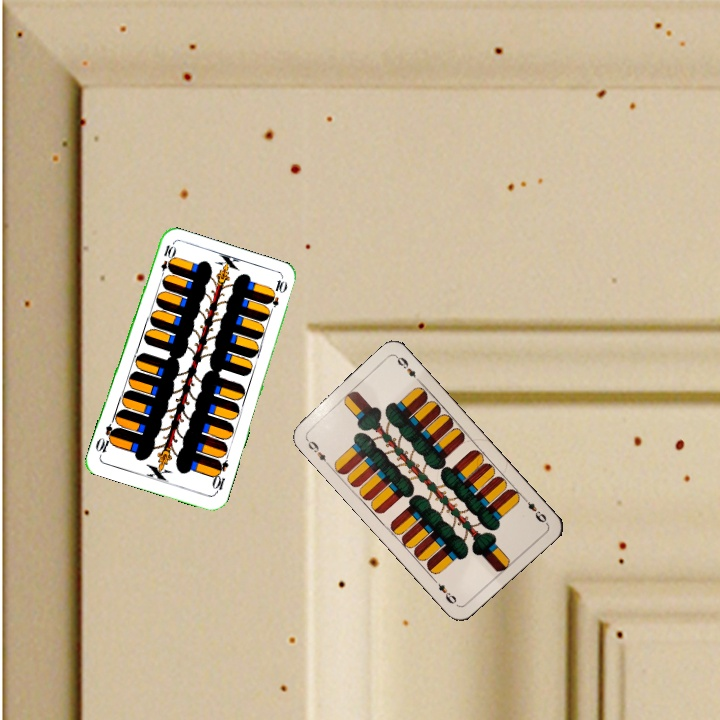E10: (208, 456, 231, 496), (156, 241, 177, 281)
E9: (302, 434, 333, 468), (519, 493, 549, 525)
